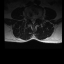CCS_normal: (32, 17, 34, 25)
LFS_severe_stenosis: (36, 17, 38, 21)
LLS_normal: (34, 17, 36, 22)
RFS_stenosis: (28, 16, 30, 21)
RLS_normal: (30, 17, 32, 22)
